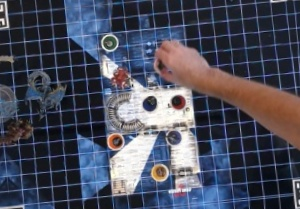blue: (138, 94, 159, 115)
green: (99, 31, 121, 53)
orange: (104, 129, 125, 149)
pink: (149, 53, 174, 78)
red: (169, 92, 187, 110)
violet: (162, 127, 183, 147)
yellow: (149, 159, 173, 184)
